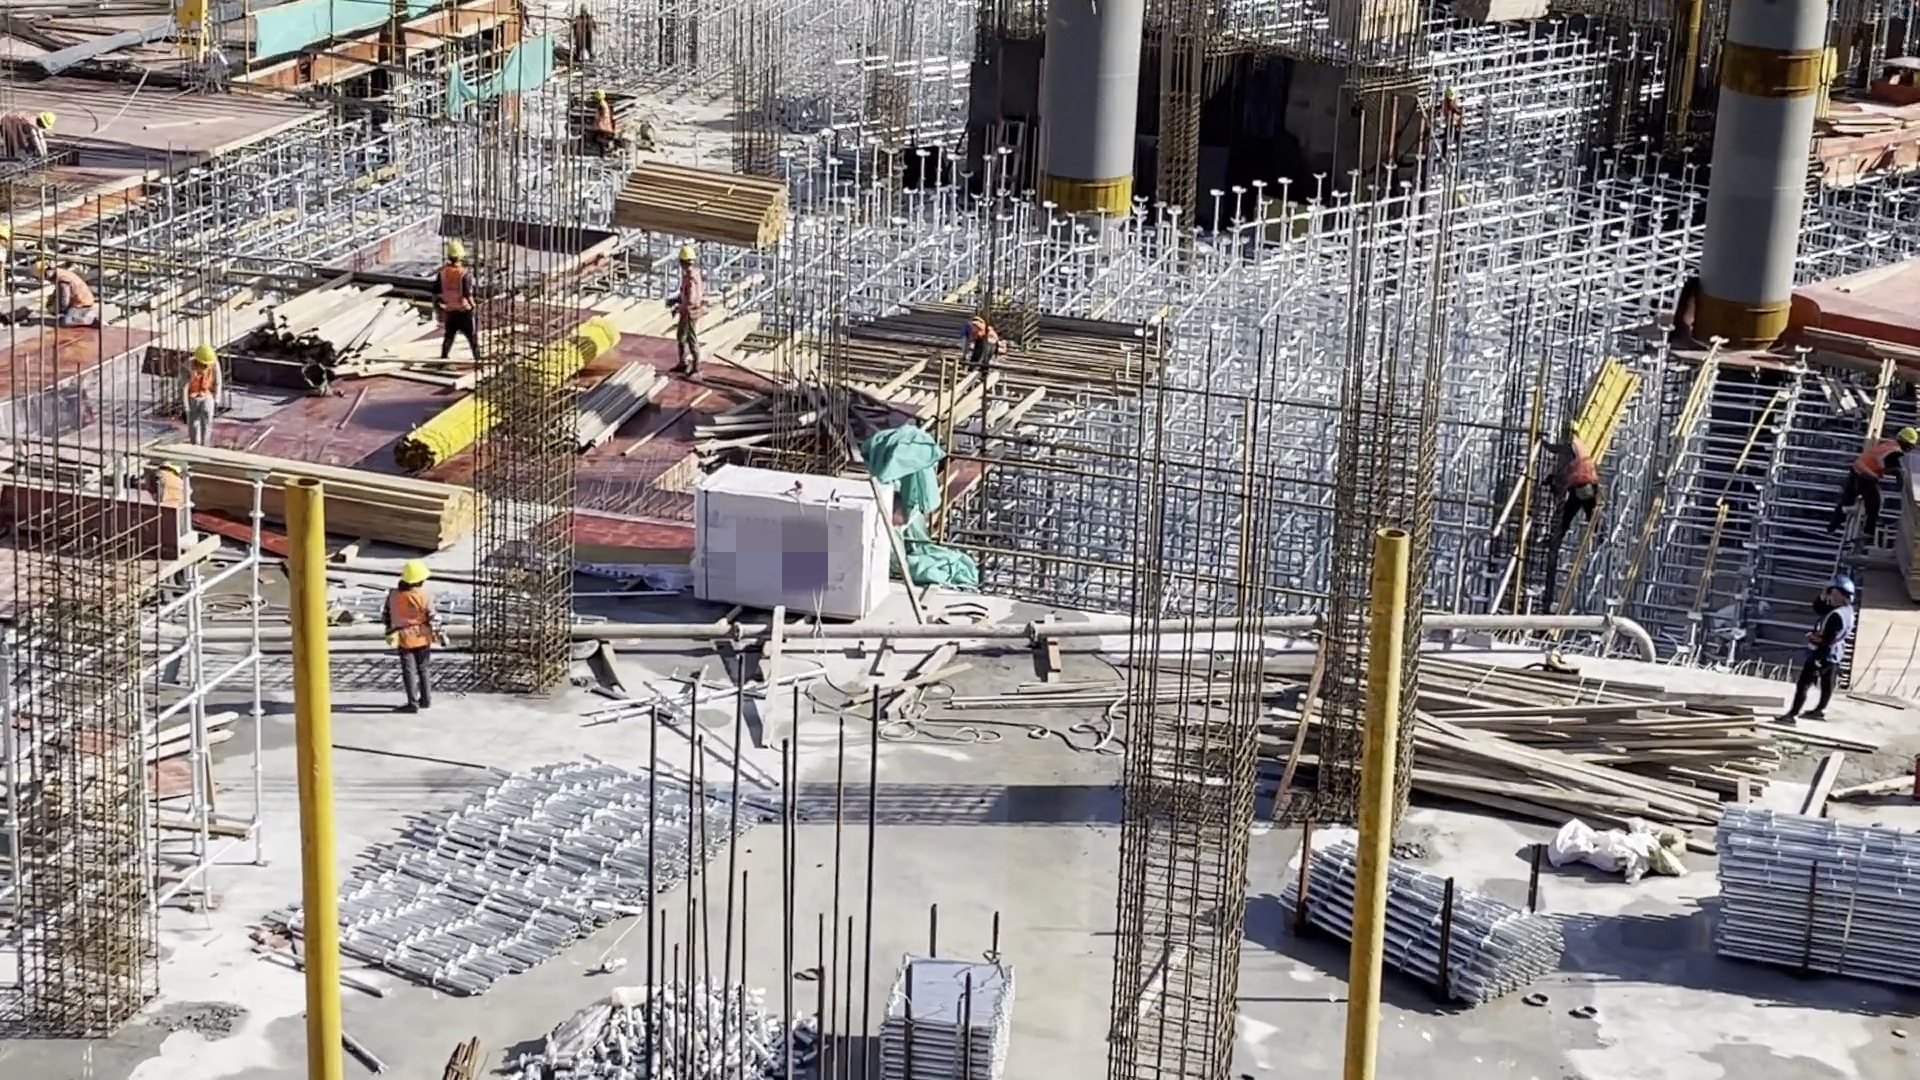helmet: (192, 341, 217, 369), (400, 562, 429, 585), (1824, 579, 1854, 596), (36, 112, 54, 131), (445, 241, 462, 261), (1901, 425, 1919, 443), (678, 246, 694, 263), (1560, 421, 1577, 435), (32, 262, 48, 276), (595, 88, 606, 100), (1447, 88, 1457, 98)
person: (1785, 578, 1855, 726), (1840, 422, 1915, 549), (388, 560, 448, 715), (432, 241, 491, 369), (1554, 422, 1607, 546), (181, 342, 229, 448), (28, 258, 96, 331), (670, 245, 707, 374), (4, 108, 56, 168), (969, 316, 1001, 375), (571, 2, 601, 62), (1443, 89, 1469, 145), (591, 89, 613, 138)
scaffold: (263, 753, 788, 996), (1278, 841, 1569, 1008), (1715, 789, 1920, 988), (880, 949, 1026, 1078)
vest: (393, 588, 437, 651), (1804, 608, 1853, 661), (1850, 442, 1899, 488), (1566, 441, 1600, 491), (439, 263, 470, 312), (53, 271, 94, 306), (676, 271, 702, 316), (188, 371, 218, 402), (970, 320, 999, 343)
wood: (154, 432, 489, 560), (607, 160, 785, 247)
